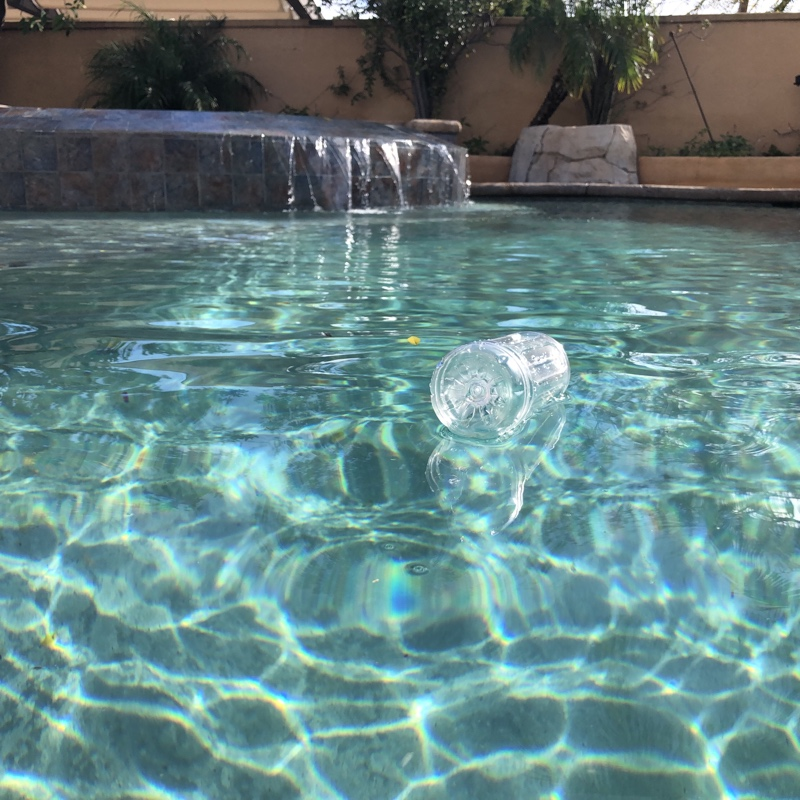Plastic Bottle: (425, 326, 575, 442)
